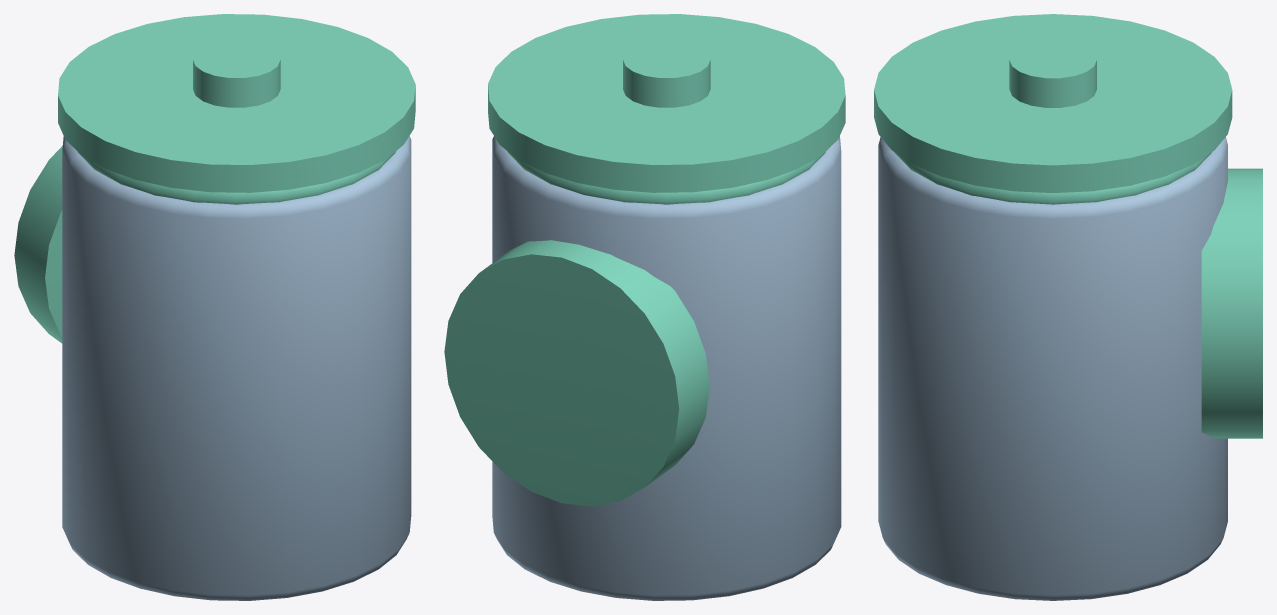
File: zone_kitchen_jar.glb
3 renders of one model, left to right at view 1: azimuth 30°, elevation 25°; view 2: azimuth 150°, elevation 25°; view 3: azimuth 270°, elevation 25°, orthographic.
Visible parts, largest first — view 1: zone_kitchen_jar; view 2: zone_kitchen_jar; view 3: zone_kitchen_jar.
Part boxes in pixels (x1,y1,x2,y2): zone_kitchen_jar: (14,14,415,600); zone_kitchen_jar: (444,14,845,600); zone_kitchen_jar: (874,14,1262,600).
Size of the model in its own units: 1.64 by 2.38 by 1.78.
